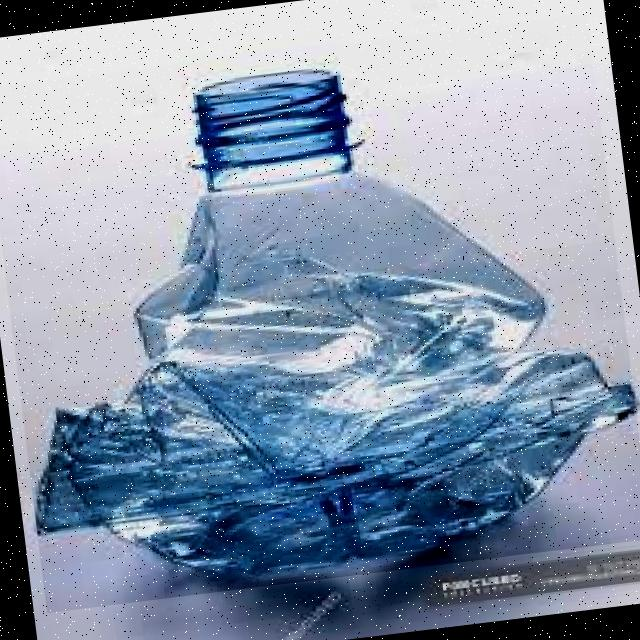bottle: (0, 12, 640, 612)
